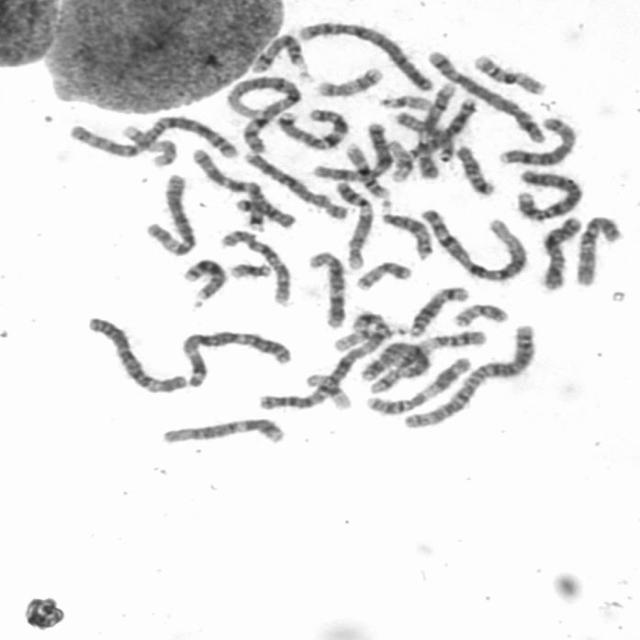A1: (415, 202, 530, 283), (220, 70, 307, 154)
A2: (398, 321, 540, 431), (61, 110, 242, 161)
A3: (252, 327, 390, 412), (175, 324, 294, 388)
B4: (292, 15, 436, 92), (510, 164, 586, 222)
B5: (421, 45, 547, 144), (356, 338, 434, 388)
C10: (215, 224, 294, 307), (568, 210, 626, 288)
C11: (358, 351, 473, 417), (384, 325, 488, 374)
C12: (156, 413, 288, 447), (303, 246, 349, 330)
C6: (82, 311, 190, 395), (139, 168, 199, 257)
C7: (186, 144, 271, 232), (271, 103, 352, 152)
C8: (237, 147, 352, 221), (493, 111, 579, 168)
C9: (411, 76, 459, 181), (328, 175, 376, 272)
D13: (176, 253, 229, 307), (341, 313, 391, 348)
D14: (403, 281, 472, 339), (246, 28, 313, 81)
D15: (374, 201, 434, 261), (391, 108, 458, 161)
E16: (467, 48, 549, 96), (340, 138, 393, 200)
E17: (116, 120, 177, 169), (310, 62, 386, 98)
E18: (450, 140, 498, 196), (230, 193, 298, 230)
F19: (300, 368, 354, 412), (382, 135, 417, 183)
F20: (349, 256, 414, 292), (447, 298, 511, 328)
G21: (224, 258, 273, 281), (331, 331, 374, 354)
G22: (300, 368, 354, 412), (374, 89, 433, 112)
X: (307, 117, 392, 182), (534, 211, 585, 292)
